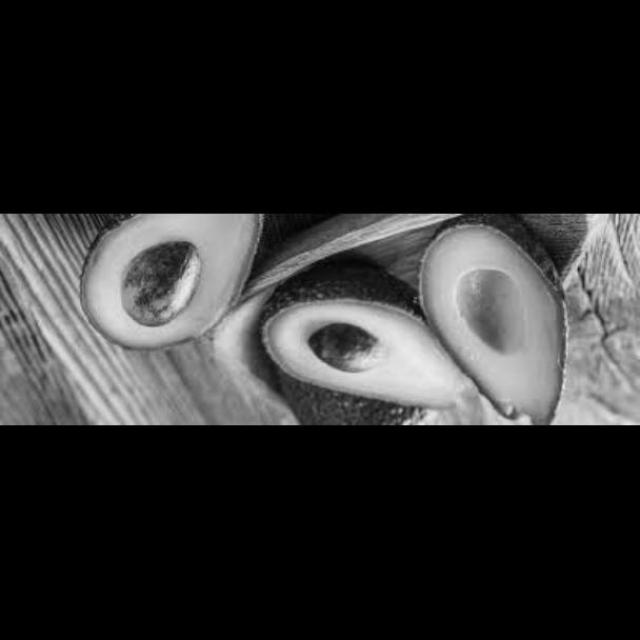bo: (420, 215, 584, 427), (249, 271, 475, 413), (78, 215, 250, 368)
